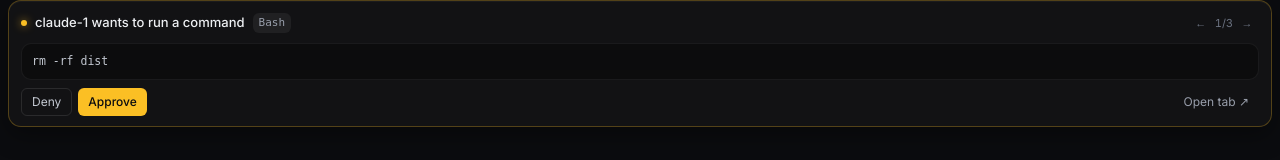
ApprovalPanel › 1/N with ← / → (buttons and keys)
Check: the text "1/3" is shown, box [1215,15,1233,31]
Click the button named "Next approval" at (1247, 23), box [1235,11,1259,35]
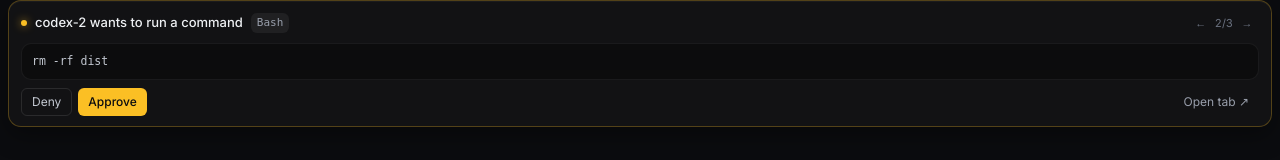
Check: the text "2/3" is shown, box [1215,15,1233,31]
Check: the element "codex-2" is shown
Press ArrowRight in the element "codex-2"
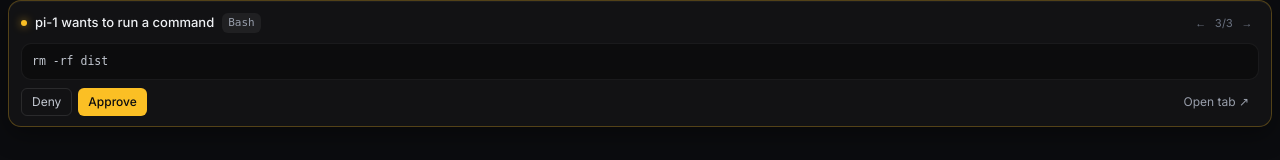
Check: the text "3/3" is shown, box [1215,15,1233,31]
Press ArrowLeft in the element "pi-1"
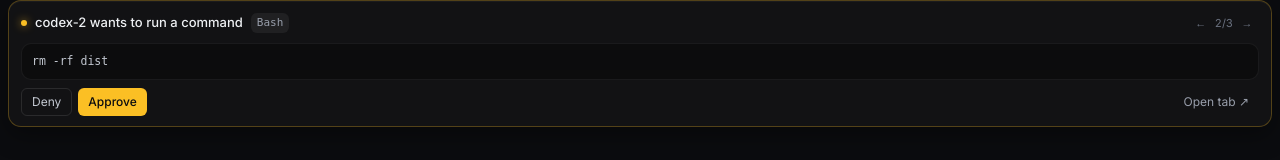
Click the button named "Previous approval" at (1201, 23), box [1189,11,1213,35]
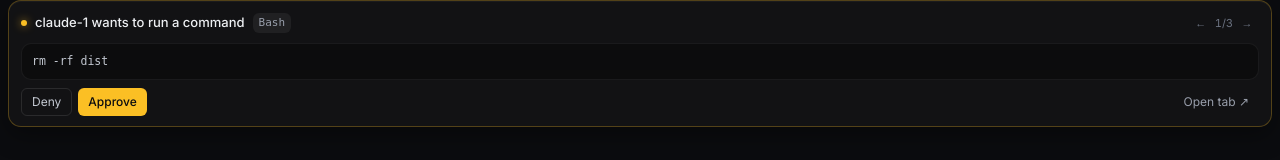
Check: the text "1/3" is shown, box [1215,15,1233,31]
